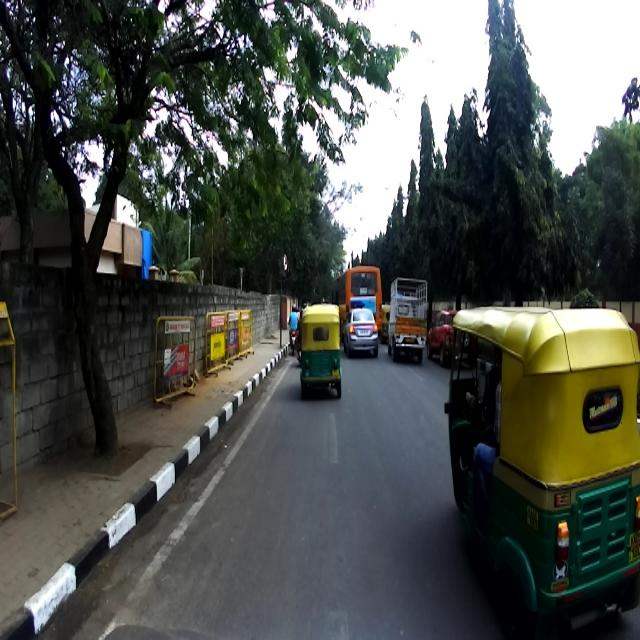Car_Maruti-Suzuki: (343, 306, 380, 357)
autorickshaw: (443, 306, 639, 639)
